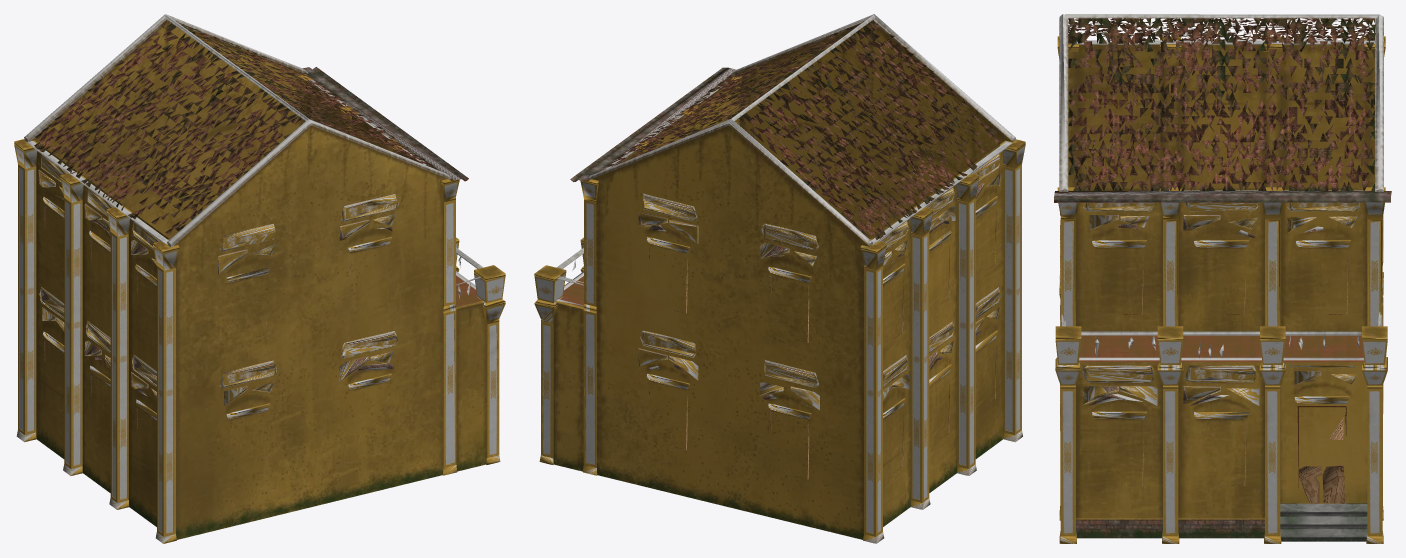
The model's file is nha-hoi-an-2.glb.
The picture shows the model from 3 angles, left to right: view 1: azimuth 30°, elevation 25°; view 2: azimuth 150°, elevation 25°; view 3: azimuth 270°, elevation 25°; orthographic projection. The views are drawn at different scales.
Visible parts, largest first — view 1: Cube_Tuong_0, Cube.001_phaochi_0, Cylinder.003_mai_0; view 2: Cube_Tuong_0, Cube.001_phaochi_0, Cylinder.003_mai_0, Cube.009_cua_0; view 3: Cube_Tuong_0, Cube.001_phaochi_0, Cylinder.003_mai_0, Cube.009_cua_0.
Part boxes in pixels (box(x1,y1,x2,y2)): Cube_Tuong_0: box(24, 21, 486, 539); Cube.001_phaochi_0: box(14, 14, 505, 543); Cylinder.003_mai_0: box(34, 19, 468, 234); Cube_Tuong_0: box(553, 21, 1014, 539); Cube.001_phaochi_0: box(534, 14, 1025, 543); Cylinder.003_mai_0: box(570, 20, 999, 239); Cube.009_cua_0: box(649, 208, 996, 479); Cube_Tuong_0: box(1061, 44, 1381, 541); Cube.001_phaochi_0: box(1055, 14, 1387, 543); Cylinder.003_mai_0: box(1054, 18, 1391, 202); Cube.009_cua_0: box(1060, 214, 1383, 503).
Bounding box in the file's own units: 0.9225 × 1 × 0.7152.
Materials: 4 (4 with a texture image).
